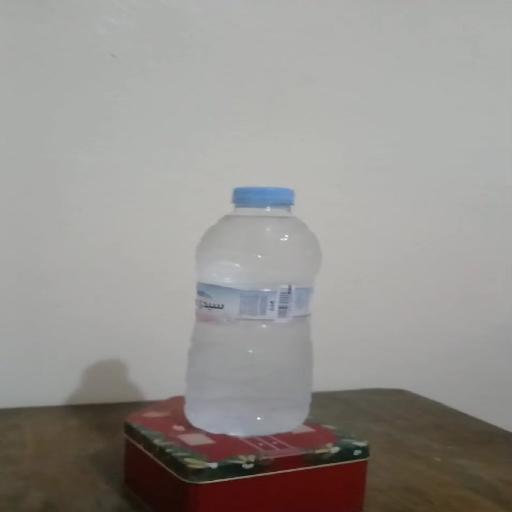bouteille conformite: (184, 187, 320, 437)
